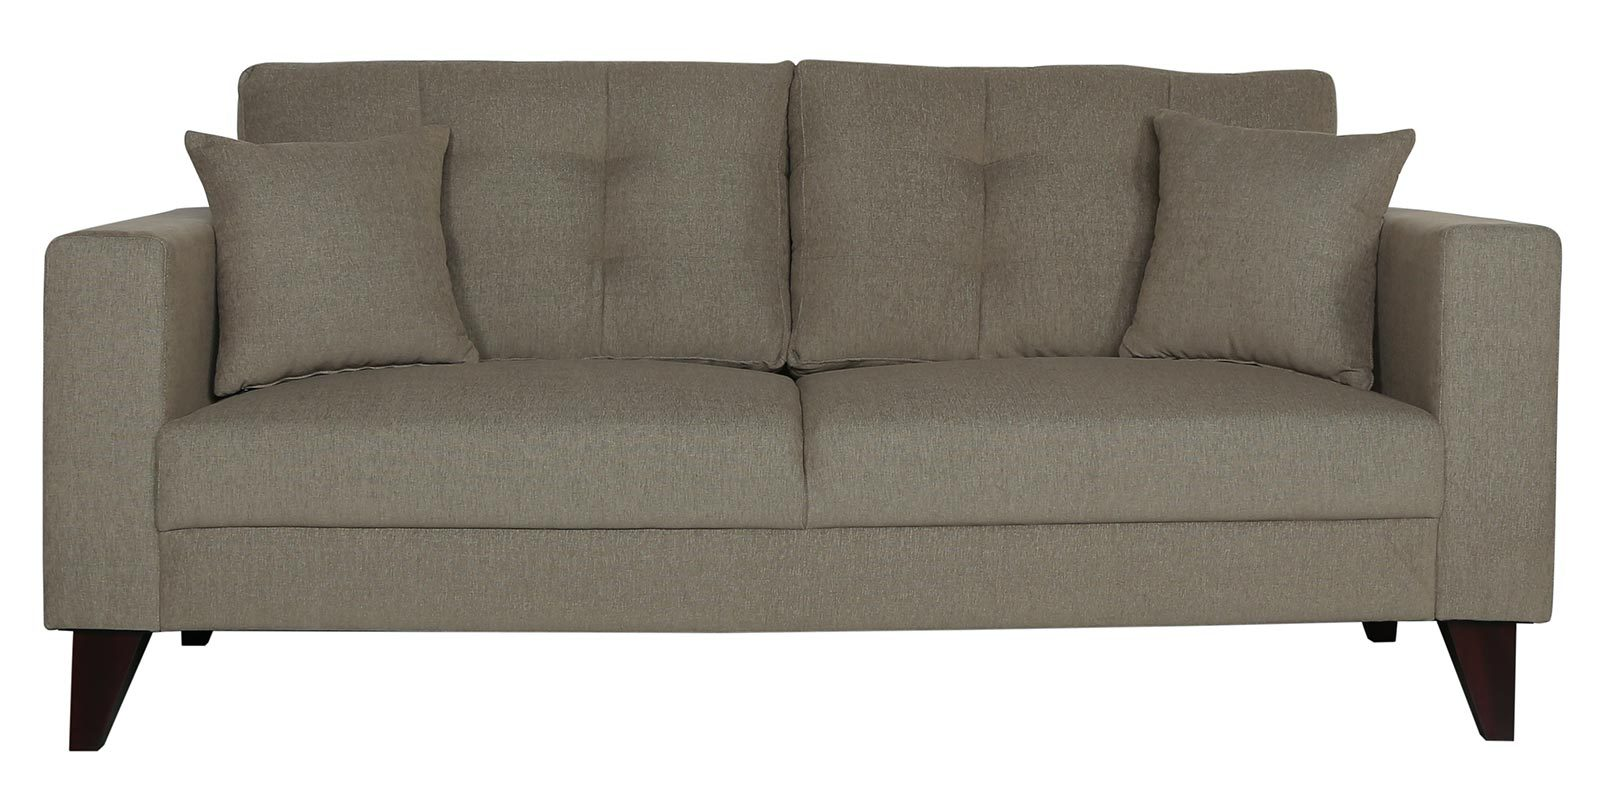Alfredo Three Seater Sofa in Sandy Brown Colour by CasaCraft: (39, 49, 1570, 765)
